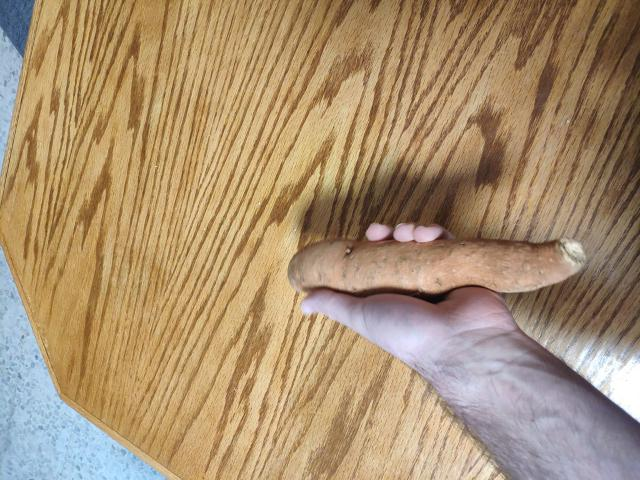sweet_potato: (284, 235, 588, 324)
